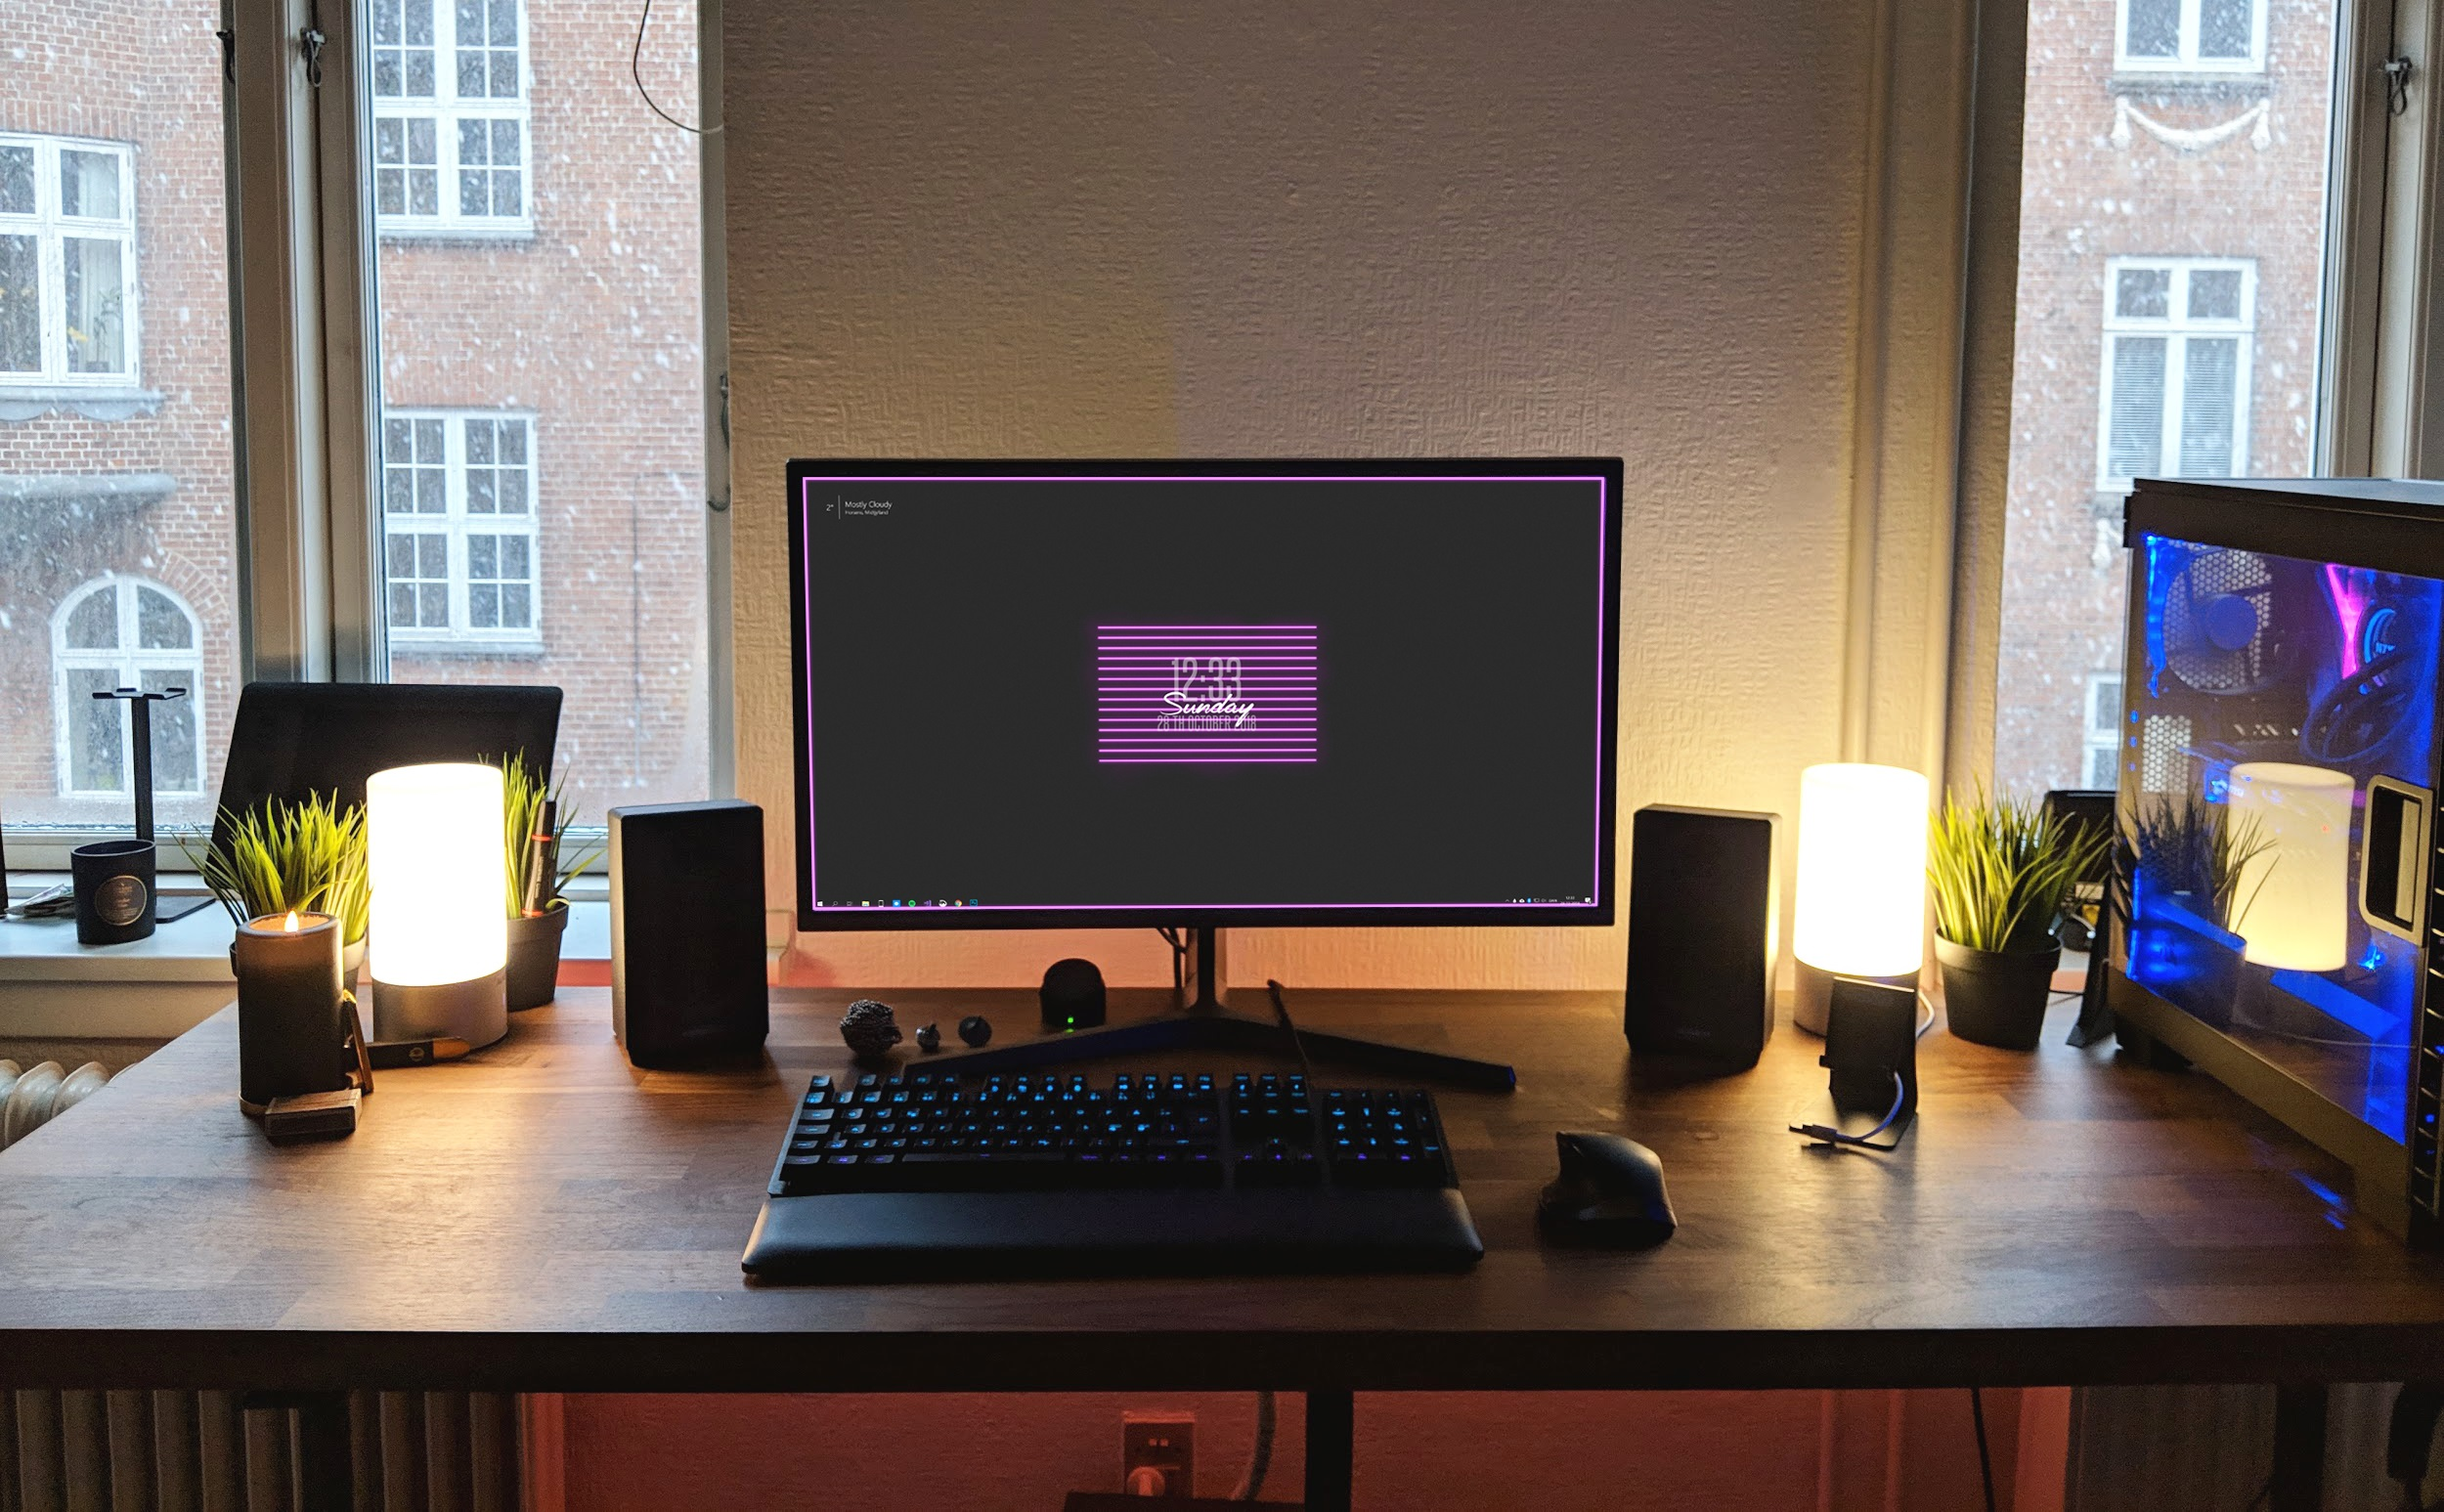Cellphone Charger (Generic): (1782, 1069, 1913, 1172)
Decoration (Candle): (223, 911, 354, 1093)
Decoration (Miniature): (834, 999, 896, 1058), (955, 1006, 990, 1049), (915, 1016, 948, 1053)
Decoration (Plant): (206, 803, 393, 1035), (1948, 800, 2048, 1048), (477, 758, 574, 1006)
Desk (Generic): (2, 971, 2444, 1512)
Desktop (Windows): (2130, 470, 2444, 1234)
External Speakers (Generic): (616, 791, 768, 1077), (1632, 803, 1779, 1053)
Keyboard (Gaming): (763, 1074, 1484, 1278)
Lamp (Desk): (375, 759, 517, 1048), (1803, 770, 1936, 960)
Monitor (Landscape): (786, 461, 1615, 927)
Mouse (Ergonomic): (1529, 1110, 1707, 1245)
Phone Holder: (1782, 971, 1959, 1179)
